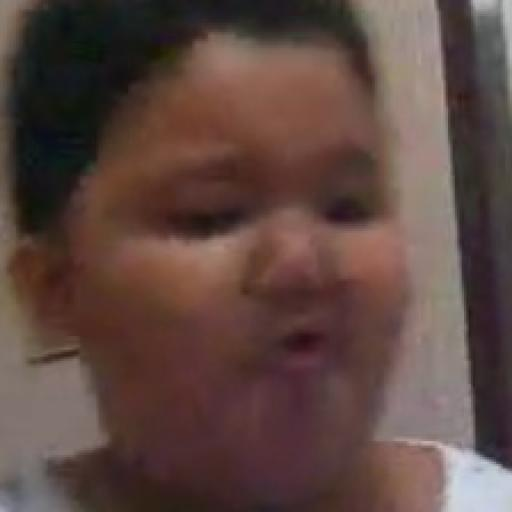Autism: (31, 39, 512, 511)
